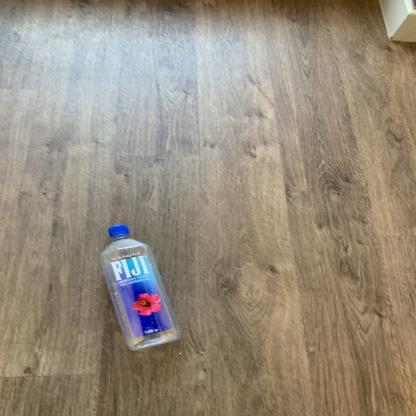trash: (99, 225, 182, 351)
